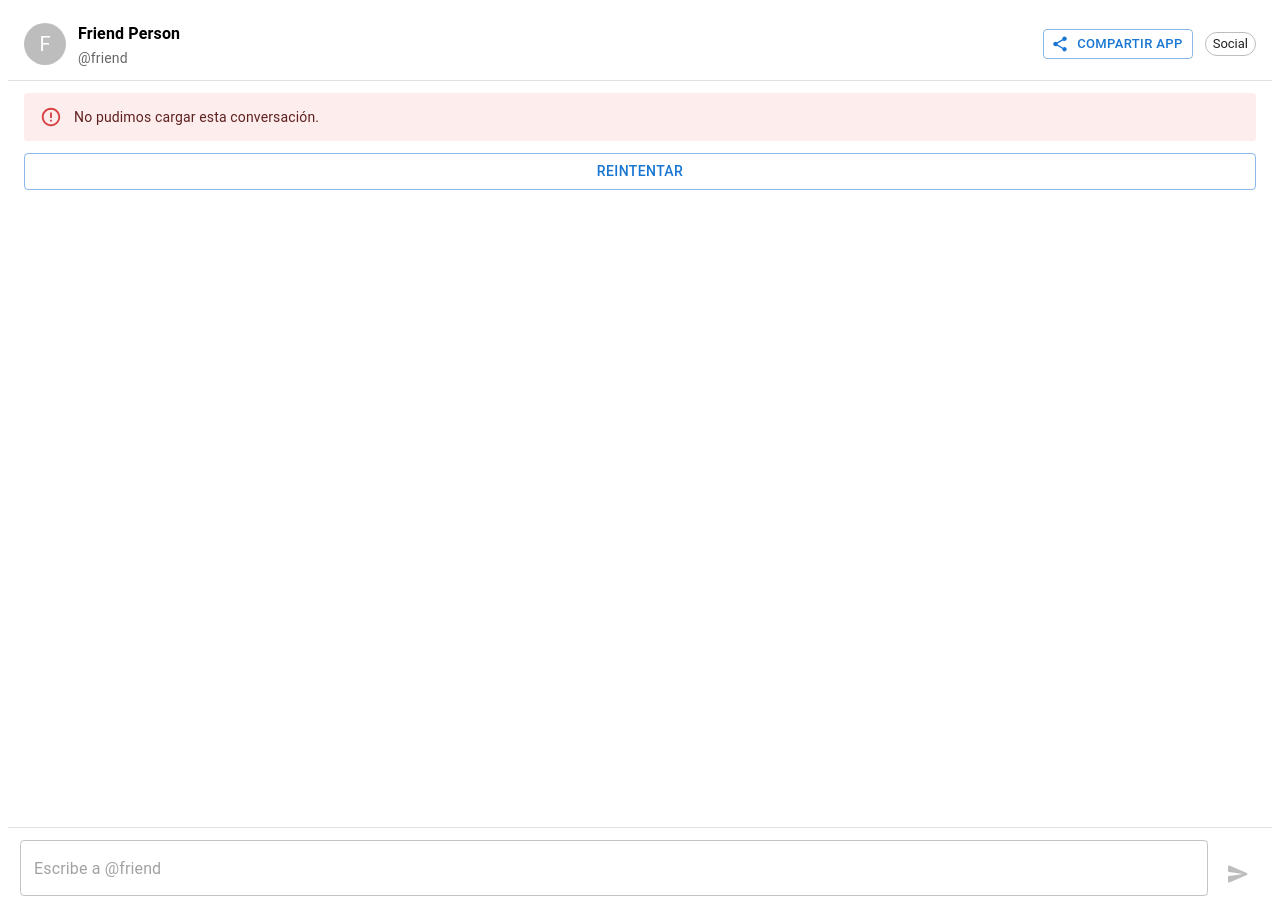
Scenario: FriendChatWindowView session and conversation lifecycle › shows fallback load errors, tolerates read-receipt failures, and retries to the empty conversation
expect the text "No pudimos cargar esta conversación." is shown: met, box 74,109 -> 319,125
Click the button "Reintentar". click: (640, 171)
box: 24,153 -> 1256,190
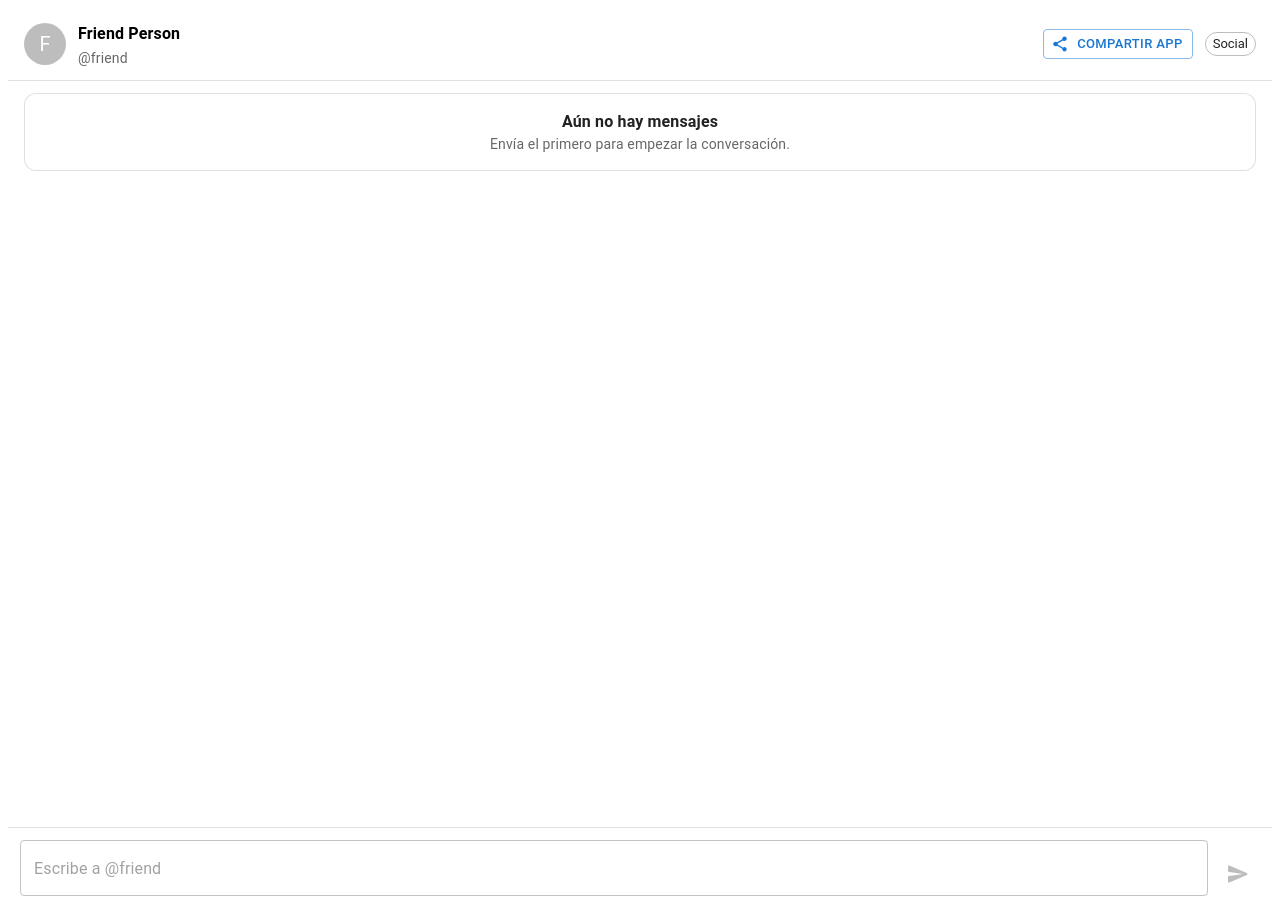
expect the text "Aún no hay mensajes" is shown: met, box 562,112 -> 718,131
